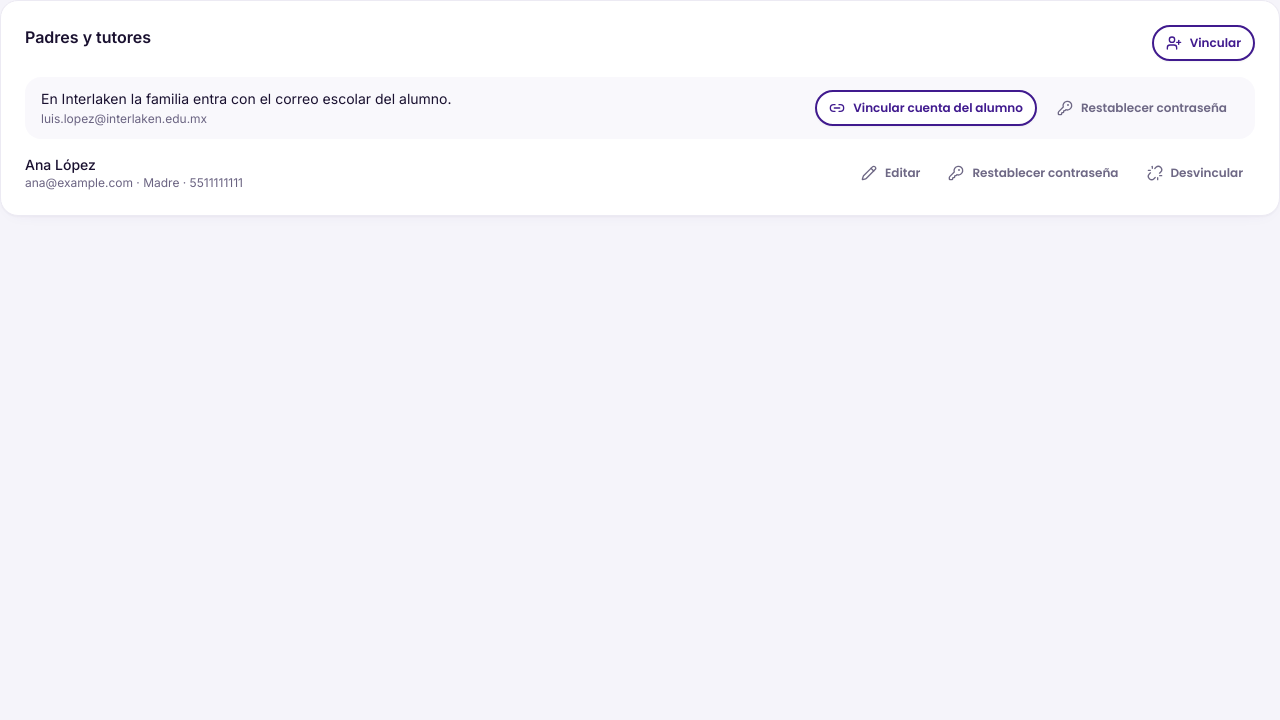
Test: StudentGuardians — admin password reset › opens the reset dialog for a guardian with the generate option preselected
Expected: the text "Ana López" is shown, [25, 156, 96, 173]
Click the button with aria-label "Restablecer la contraseña de Ana López". click: (1033, 173)
box: [936, 155, 1130, 191]
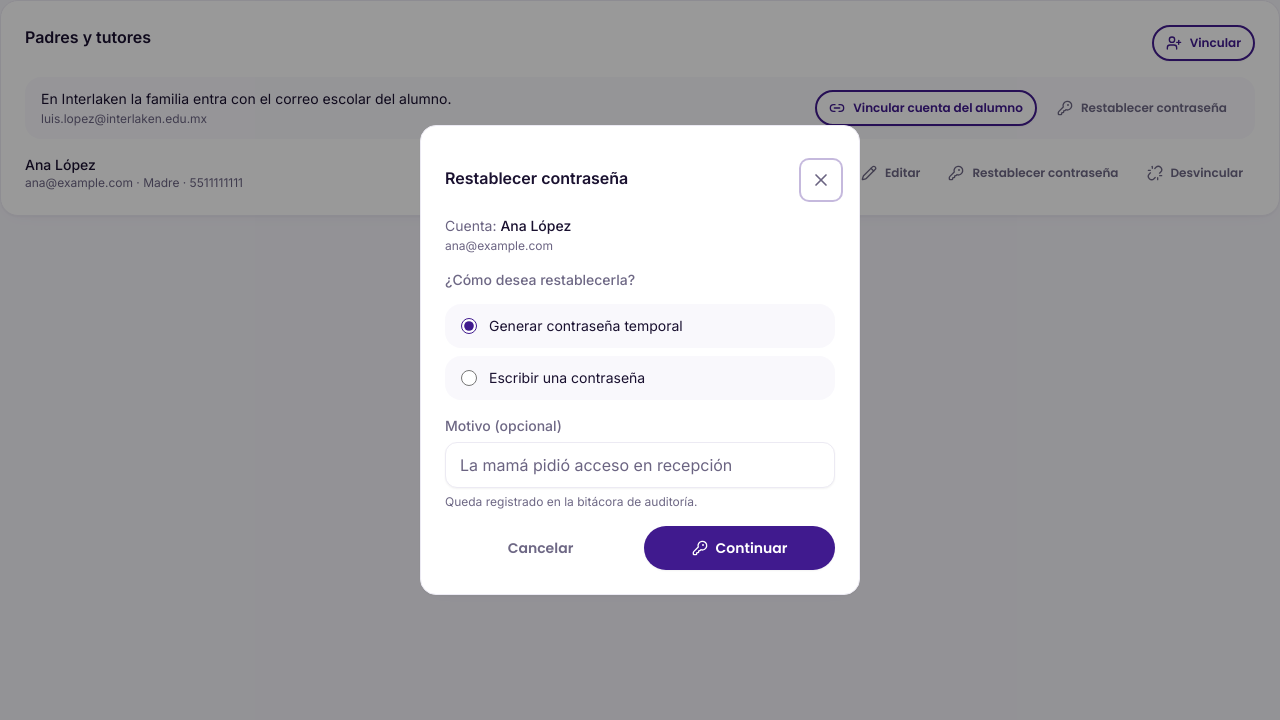
Expected: the text "ana@example.com" is shown, [445, 238, 553, 253]
Expected: the radio button labelled "Generar contraseña temporal" is checked, [461, 318, 477, 334]
Expected: the radio button labelled "Escribir una contraseña" is not checked, [461, 370, 477, 386]
